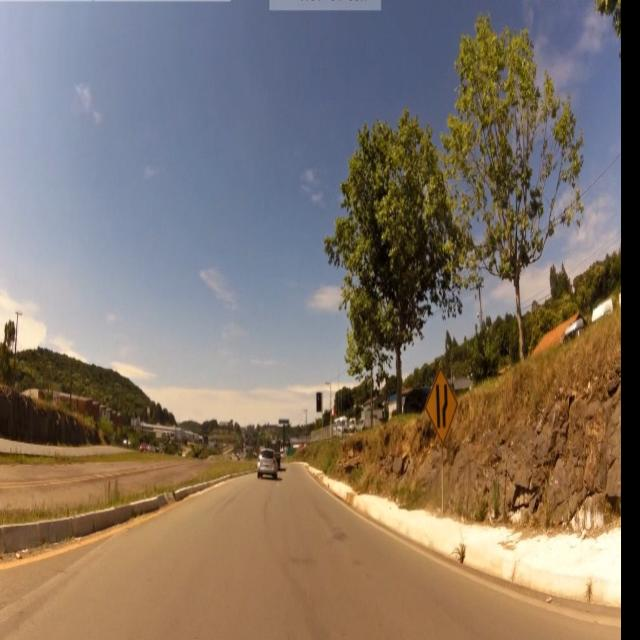A-21e: (424, 366, 460, 446)
